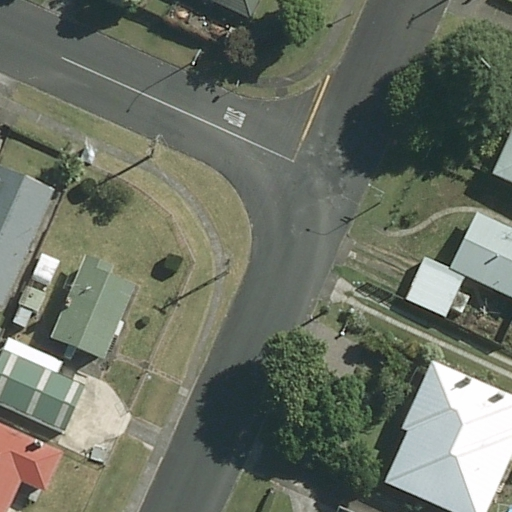DT: (149, 128, 164, 163), (218, 251, 236, 280)
